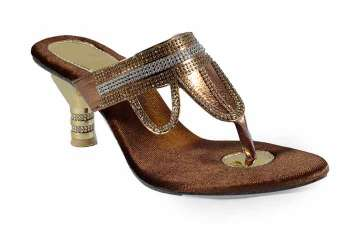Footwear: (29, 30, 332, 200)
